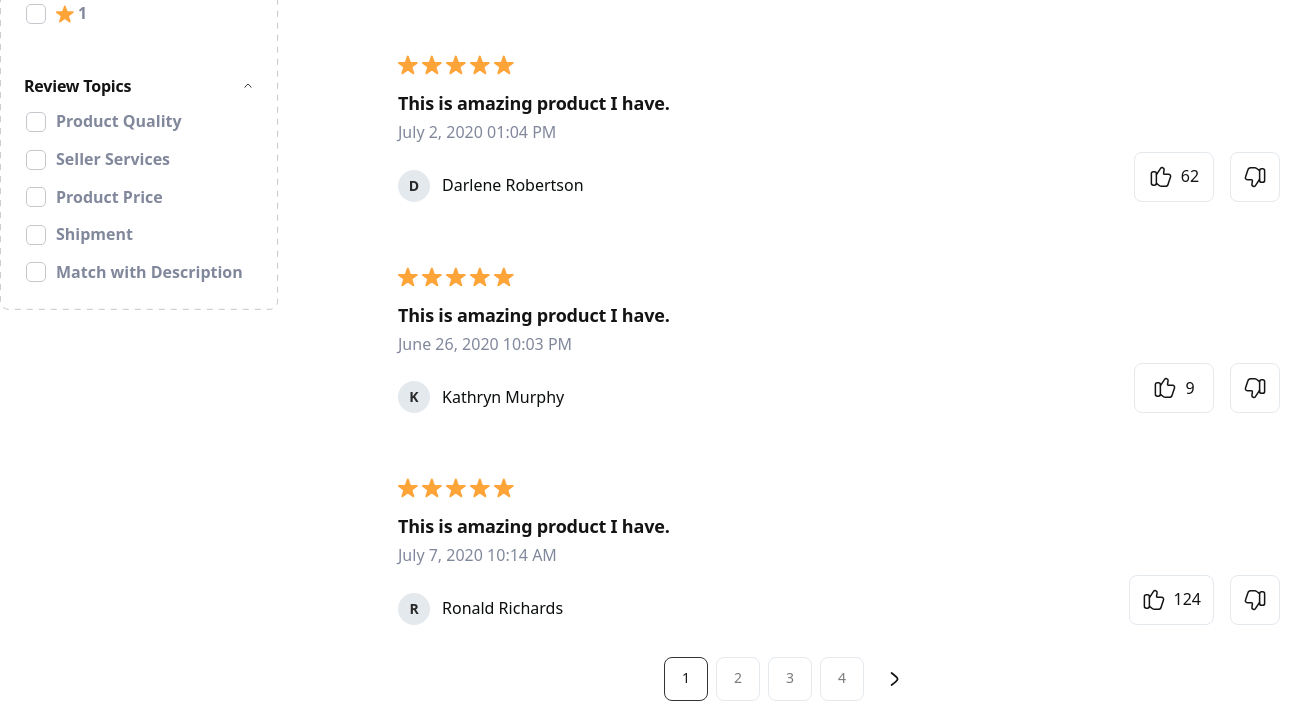
Scenario: ProductReviews › filters by rating and goes back to the first page
This screenshot has width=1292, height=701.
(page scrolled)
Click the button named "Page 2" at (738, 679), box [716,657,760,700]
(page scrolled)
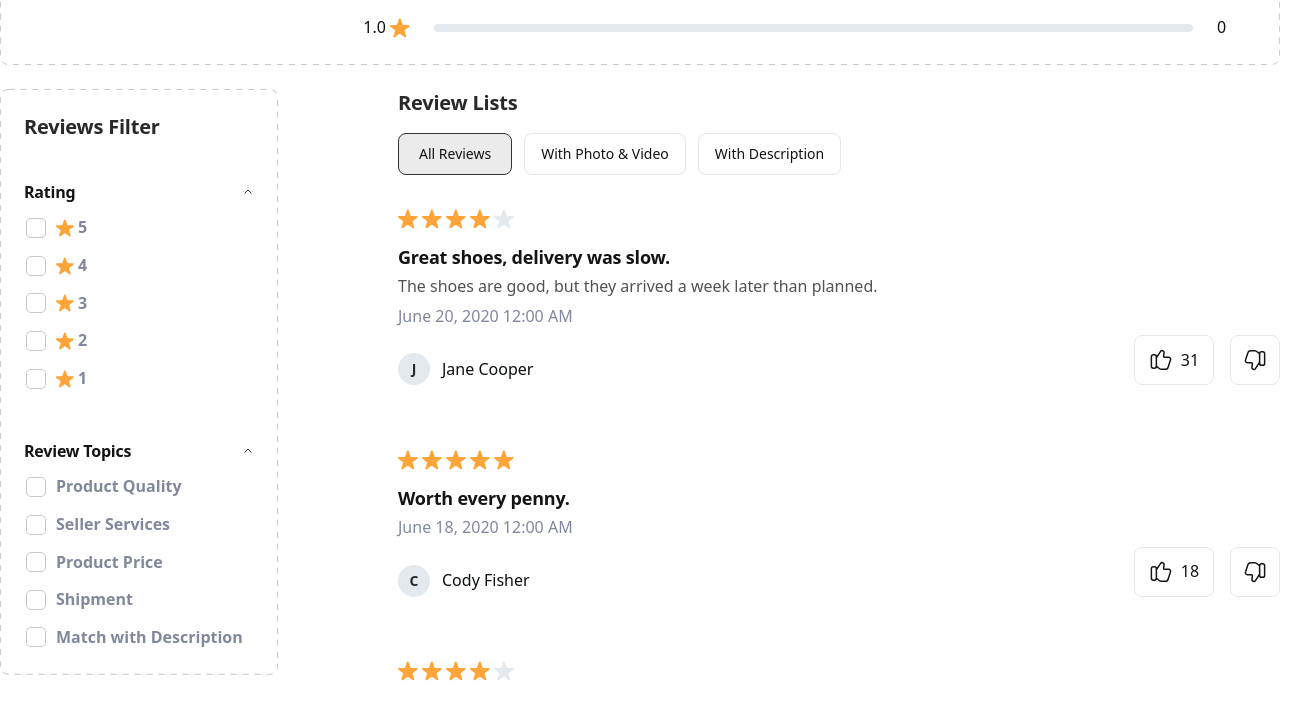
Click the checkbox named "2 stars" at (36, 341), box [26,331,46,351]
(page scrolled)
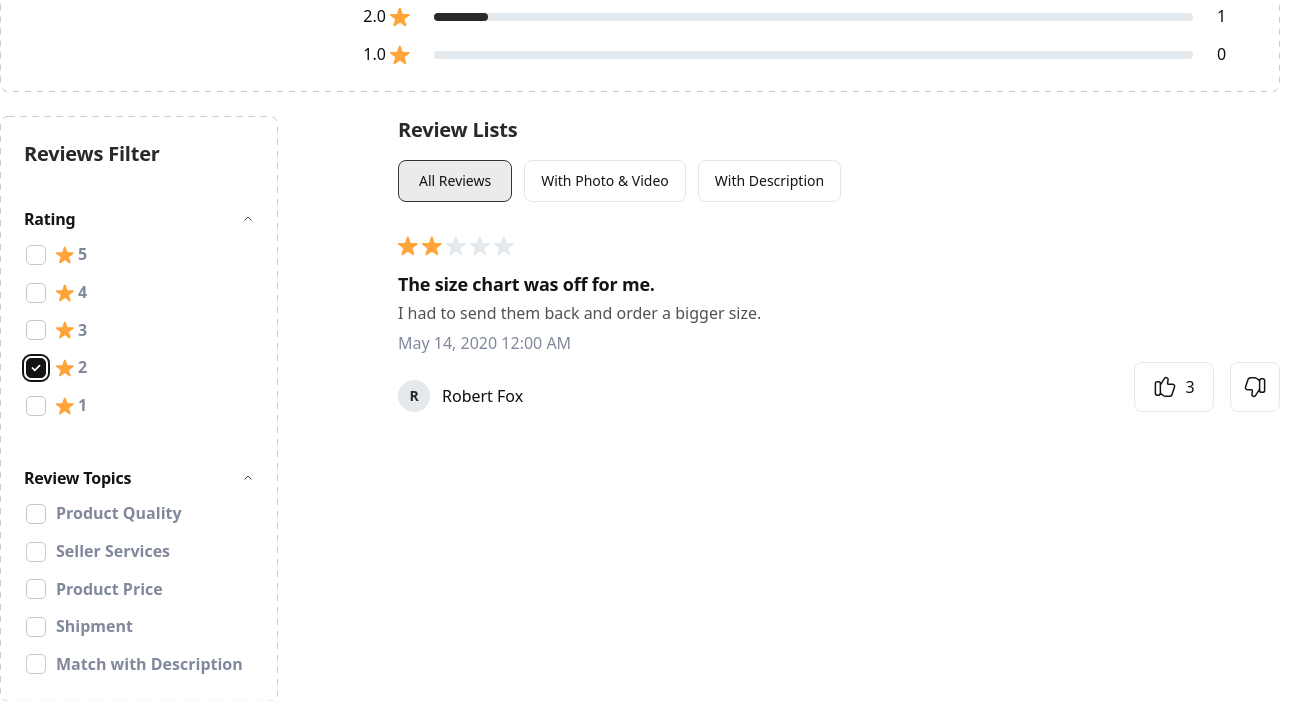
Now the heading "The size chart was off for me." is shown, box [398,272,655,296]
